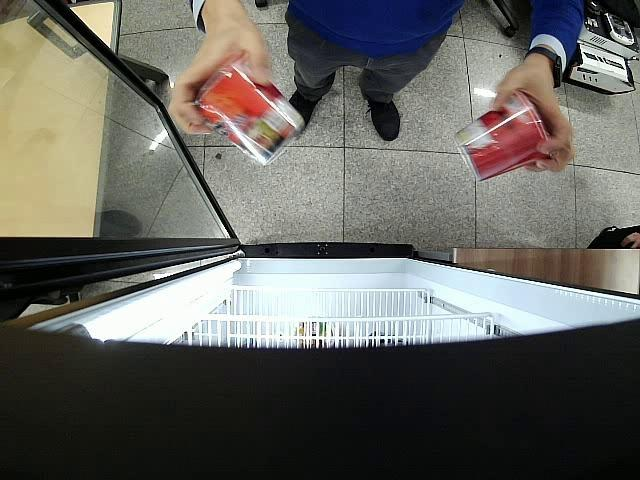02_shinRamen_S: (198, 58, 304, 166), (454, 92, 552, 182)
